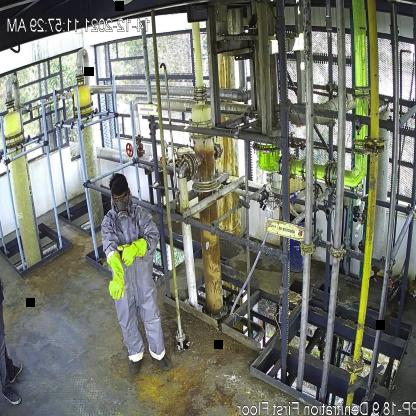goggles: (112, 194, 129, 204)
mask: (115, 201, 131, 223)
